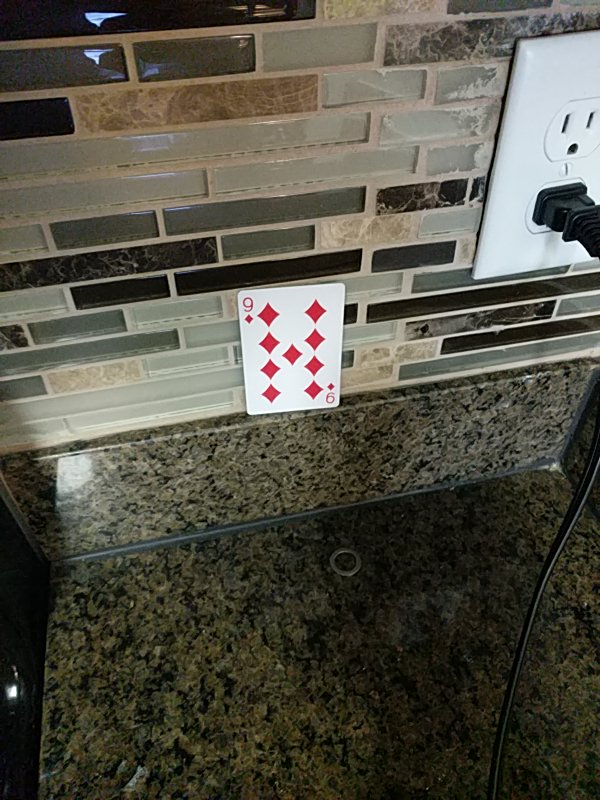Diamonds: (236, 281, 343, 411)
